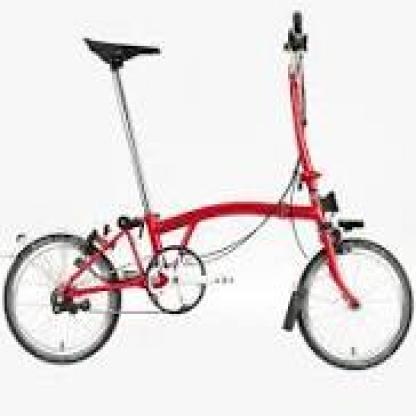Bike: (5, 10, 415, 372)
